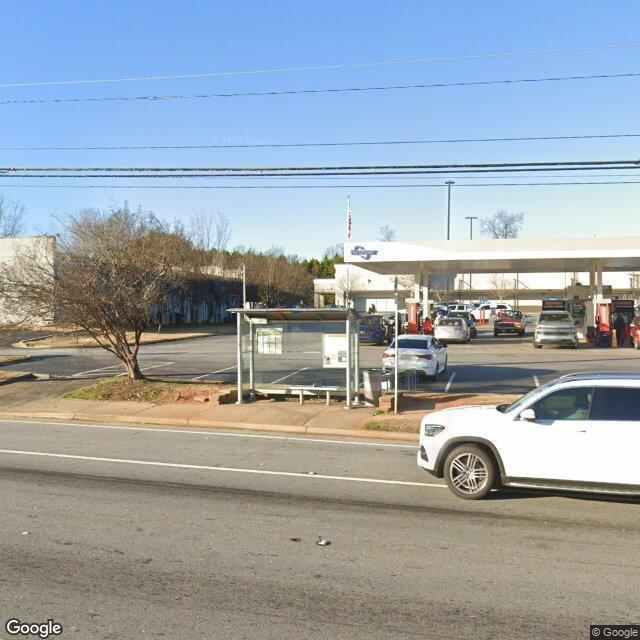seating: (287, 384, 339, 406)
shelter: (225, 307, 360, 412)
trash_can: (364, 369, 382, 406)
